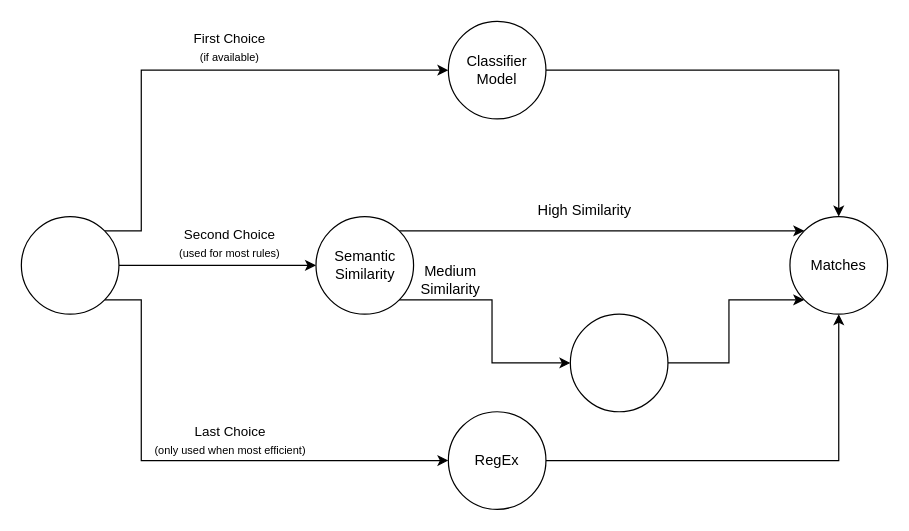
The diagram is 909 pixels wide and 531 high, and some of its shapes have lost their labels. The centre of each missing label's shape, as x and y in pixels:
Input Chunk: [69,264]
Keyword Match: [618,362]
